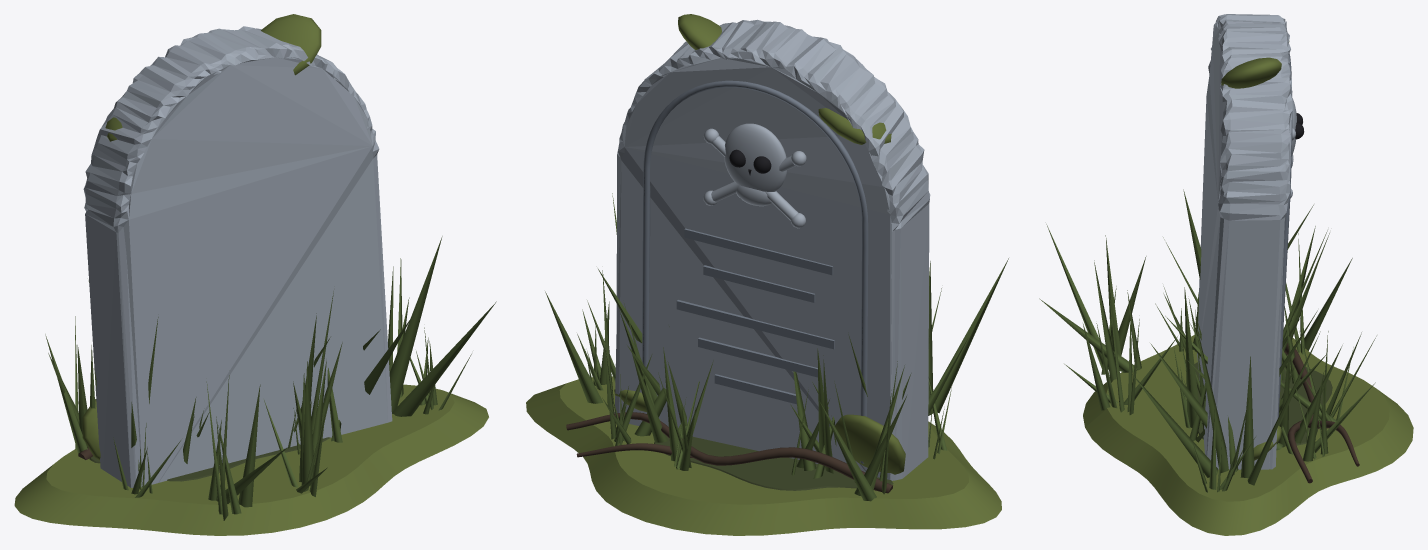
Rendered from BAYOU_GRAVESTONE_A.glb.
3 views of the same model, side by side, from view 1: azimuth 30°, elevation 25°; view 2: azimuth 150°, elevation 25°; view 3: azimuth 270°, elevation 25° (orthographic). The views are drawn at different scales.
Visible parts, largest first — view 1: Headstone_Slab, Ground, Grass, Moss, Ground_Mud; view 2: Headstone_Slab, Ground, Grass, Engraving_Text (×5), Engraving_Border, Moss, Ground_Mud, Roots, Relief_Skull, Relief_Bone; view 3: Headstone_Slab, Ground, Grass, Moss, Roots, Ground_Mud, Engraving_Border.
Part boxes in pixels (<box>): Headstone_Slab: <box>83,26,392,487</box>; Ground: <box>14,384,488,535</box>; Grass: <box>45,236,496,520</box>; Moss: <box>82,14,321,460</box>; Ground_Mud: <box>89,437,330,481</box>; Headstone_Slab: <box>614,19,930,480</box>; Ground: <box>526,376,1001,535</box>; Grass: <box>545,193,1008,501</box>; Engraving_Text (×5): <box>676,228,834,404</box>; Engraving_Border: <box>642,80,868,463</box>; Moss: <box>614,14,905,474</box>; Ground_Mud: <box>654,435,893,490</box>; Roots: <box>566,412,892,493</box>; Relief_Skull: <box>724,123,786,191</box>; Relief_Bone: <box>711,136,798,220</box>; Headstone_Slab: <box>1197,14,1292,469</box>; Ground: <box>1083,335,1413,535</box>; Grass: <box>1039,189,1376,492</box>; Moss: <box>1221,41,1289,460</box>; Roots: <box>1284,343,1359,483</box>; Ground_Mud: <box>1194,355,1332,445</box>; Engraving_Border: <box>1277,53,1292,418</box>.
Bounding box in the file's own units: 5.22 × 4.64 × 3.93.
